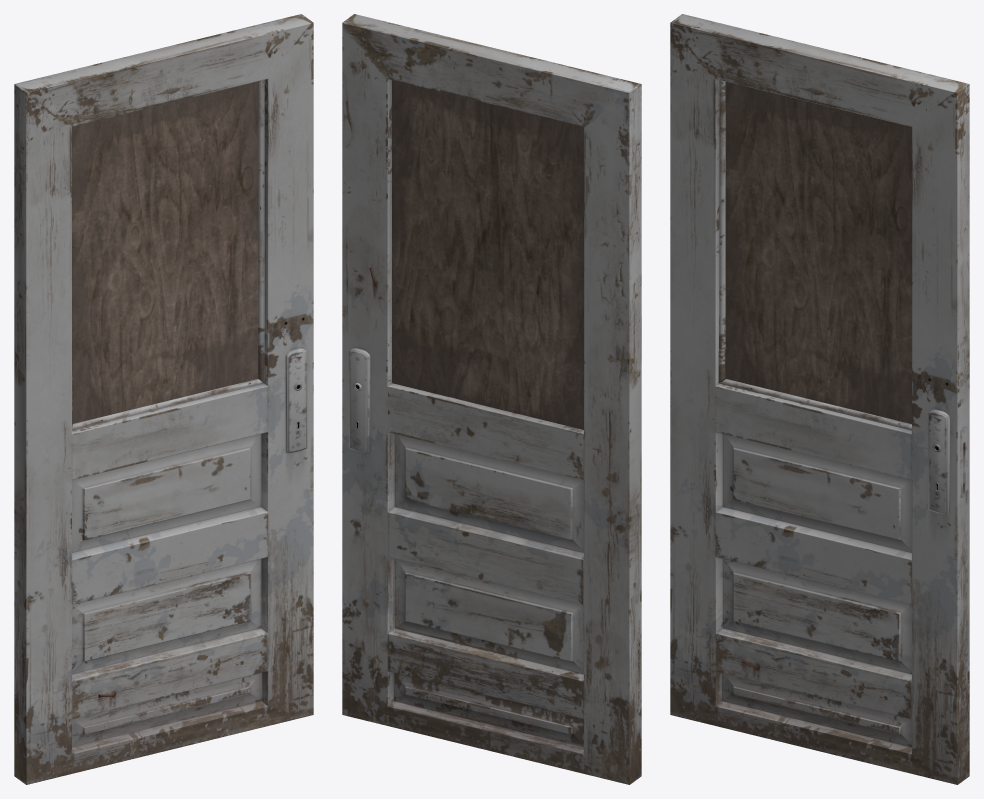
The model's file is door01_left_01.fbx.
3 renders of one model, left to right at view 1: azimuth 30°, elevation 25°; view 2: azimuth 150°, elevation 25°; view 3: azimuth 330°, elevation 25°, orthographic.
Parts seen in each view (by area): view 1: fuck_baking_highpoly; view 2: fuck_baking_highpoly; view 3: fuck_baking_highpoly.
Boxes of the visible parts, x1=… form: fuck_baking_highpoly: x1=14, y1=14, x2=313, y2=784; fuck_baking_highpoly: x1=342, y1=14, x2=641, y2=784; fuck_baking_highpoly: x1=670, y1=14, x2=969, y2=784.
Size of what is drawn, in the model's own units: 40.08 by 92.03 by 4.41.
